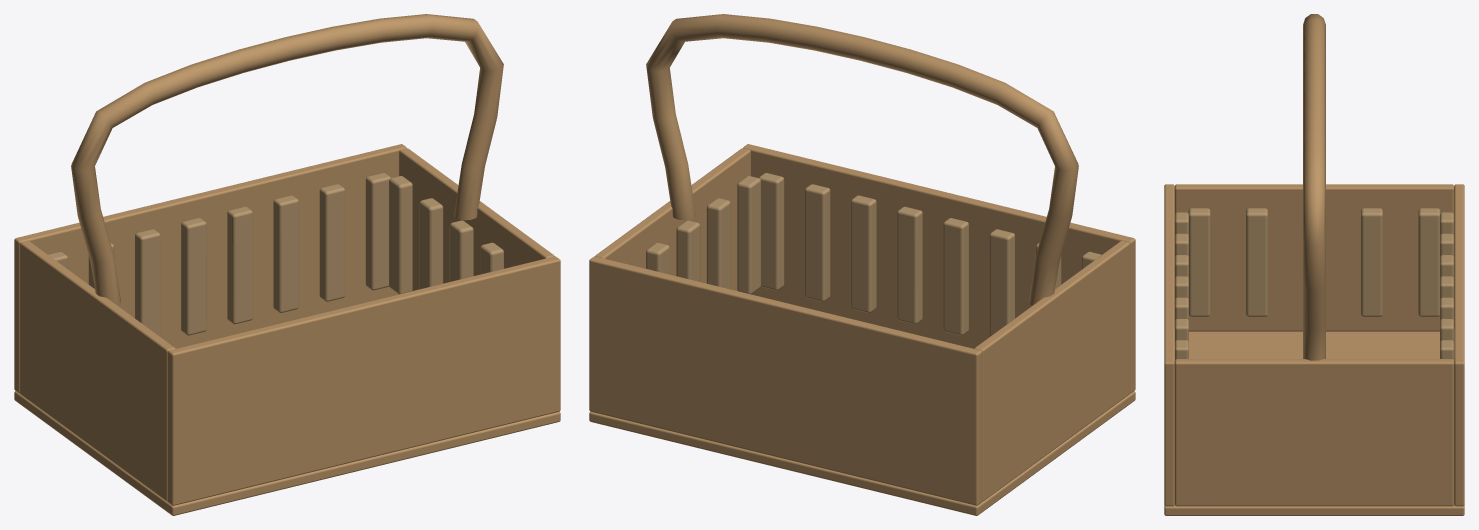
Rendered from mushroom-farm-and-grow-rooms-harvest-basket-f5aeec86__30843.glb.
3 renders of one model, left to right at view 1: azimuth 30°, elevation 25°; view 2: azimuth 150°, elevation 25°; view 3: azimuth 270°, elevation 25°, orthographic. The views are drawn at different scales.
Visible parts, largest first — view 1: harvest-basket; view 2: harvest-basket; view 3: harvest-basket.
Boxes of the visible parts, bbox=[...] form: harvest-basket: bbox=[14, 14, 560, 515]; harvest-basket: bbox=[589, 14, 1135, 515]; harvest-basket: bbox=[1164, 14, 1464, 515].
Bounding box in the file's own units: 0.5296 × 0.4398 × 0.34.
